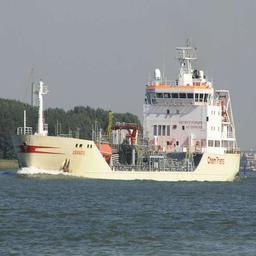Ship: (11, 55, 244, 185)
